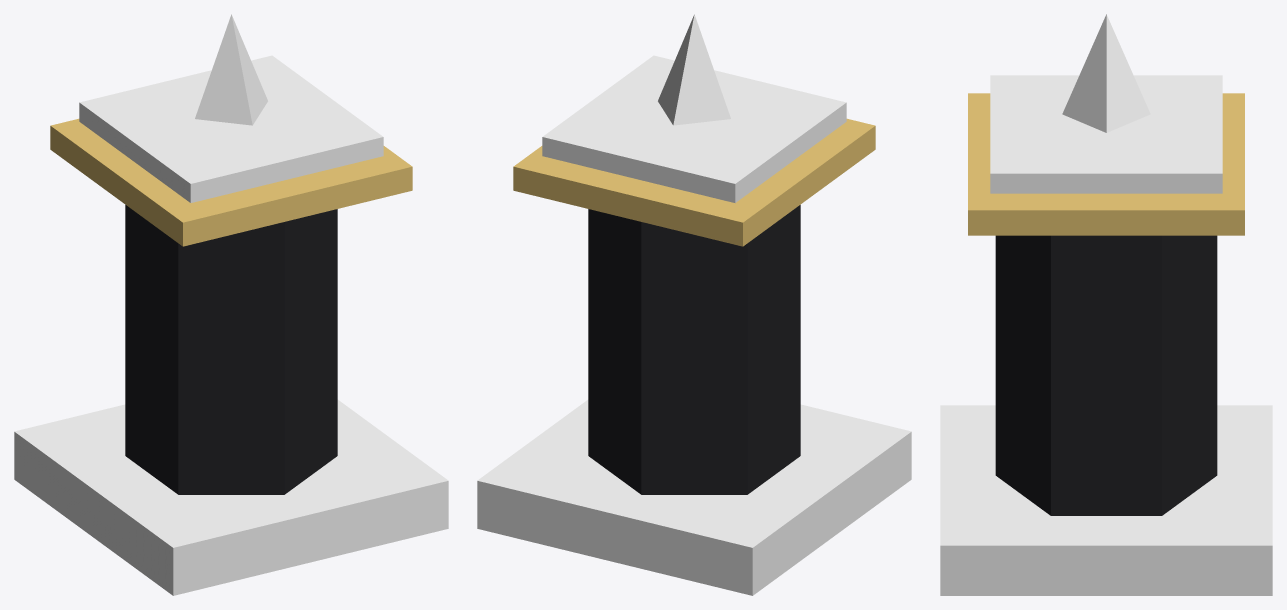
Rendered from SM_EndingPedestal.fbx.
The picture shows the model from 3 angles, left to right: view 1: azimuth 30°, elevation 25°; view 2: azimuth 150°, elevation 25°; view 3: azimuth 270°, elevation 25°; orthographic projection. The views are drawn at different scales.
Visible parts, largest first — view 1: SM_EndingPedestal; view 2: SM_EndingPedestal; view 3: SM_EndingPedestal.
Boxes of the visible parts, <box> form: SM_EndingPedestal: <box>14,14,448,595</box>; SM_EndingPedestal: <box>477,14,911,595</box>; SM_EndingPedestal: <box>940,14,1272,595</box>.
Bounding box in the file's own units: 60 × 102 × 60.
